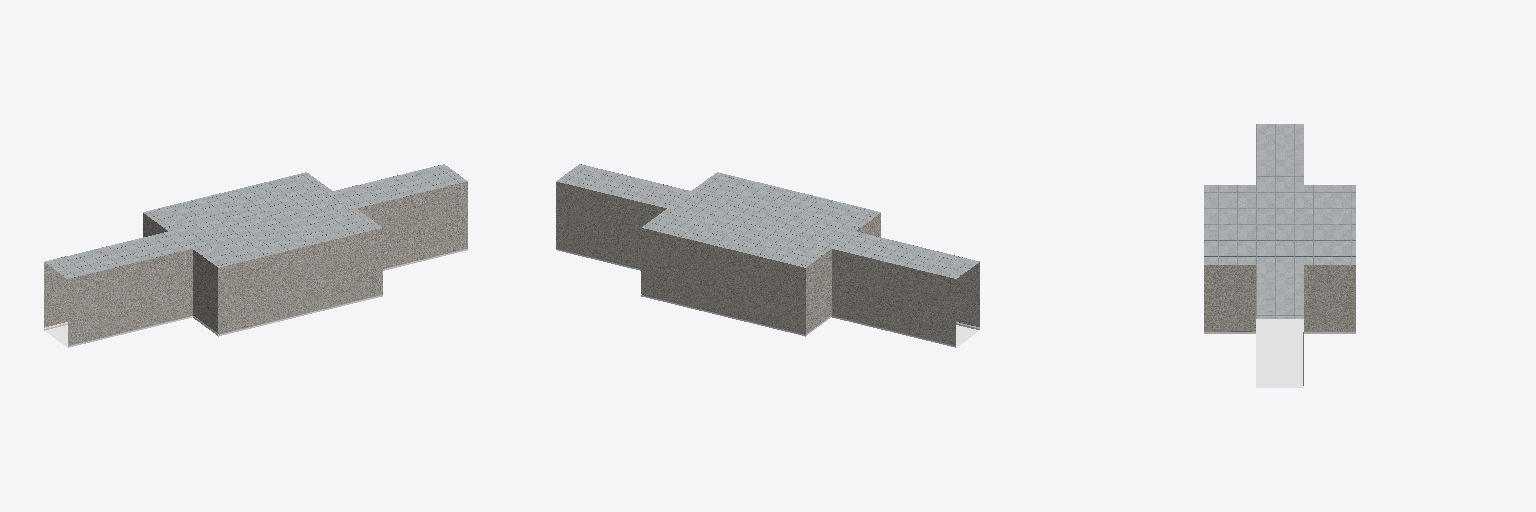
The picture shows the model from 3 angles: view 1: azimuth 30°, elevation 25°; view 2: azimuth 150°, elevation 25°; view 3: azimuth 270°, elevation 25°; orthographic projection.
Parts seen in each view (by area): view 1: Cube; view 2: Cube; view 3: Cube.
Boxes of the visible parts, <box> form: Cube: <box>44,164,467,347</box>; Cube: <box>556,164,979,347</box>; Cube: <box>1204,124,1355,387</box>.
Size of the model in its own units: 12.19 by 2 by 4.
Materials: 5 (2 with a texture image).